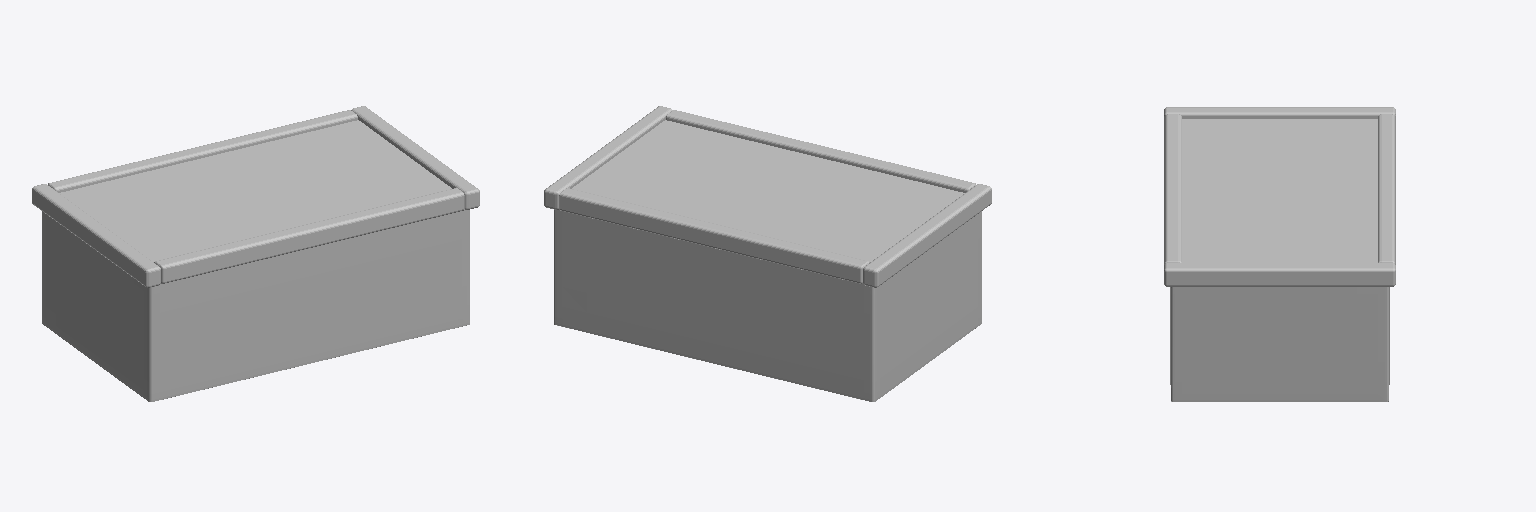
The model's file is PlatformBig.obj.
3 views of the same model, side by side, from view 1: azimuth 30°, elevation 25°; view 2: azimuth 150°, elevation 25°; view 3: azimuth 270°, elevation 25° (orthographic).
Visible parts, largest first — view 1: platform; view 2: platform; view 3: platform.
Boxes of the visible parts, box(x1,y1,x2,y2) form: platform: box(32, 106, 479, 401); platform: box(544, 106, 991, 401); platform: box(1164, 107, 1395, 401).
Bounding box in the file's own units: 1.68 × 0.6565 × 1.01.